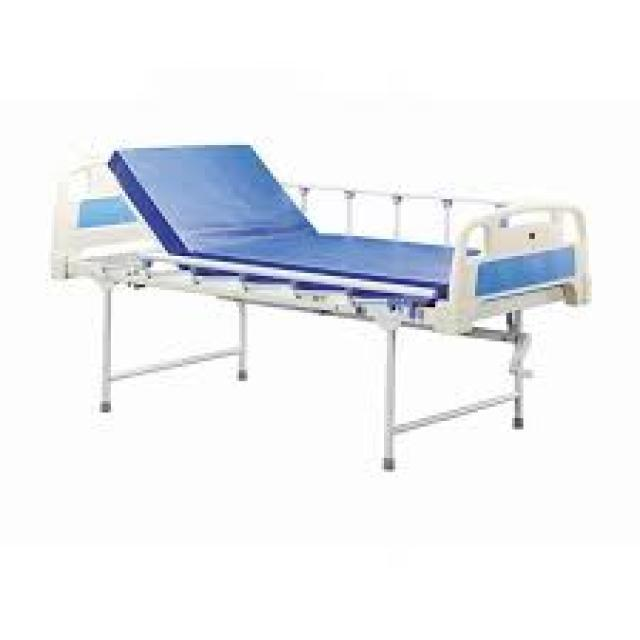bed: (51, 140, 592, 470)
